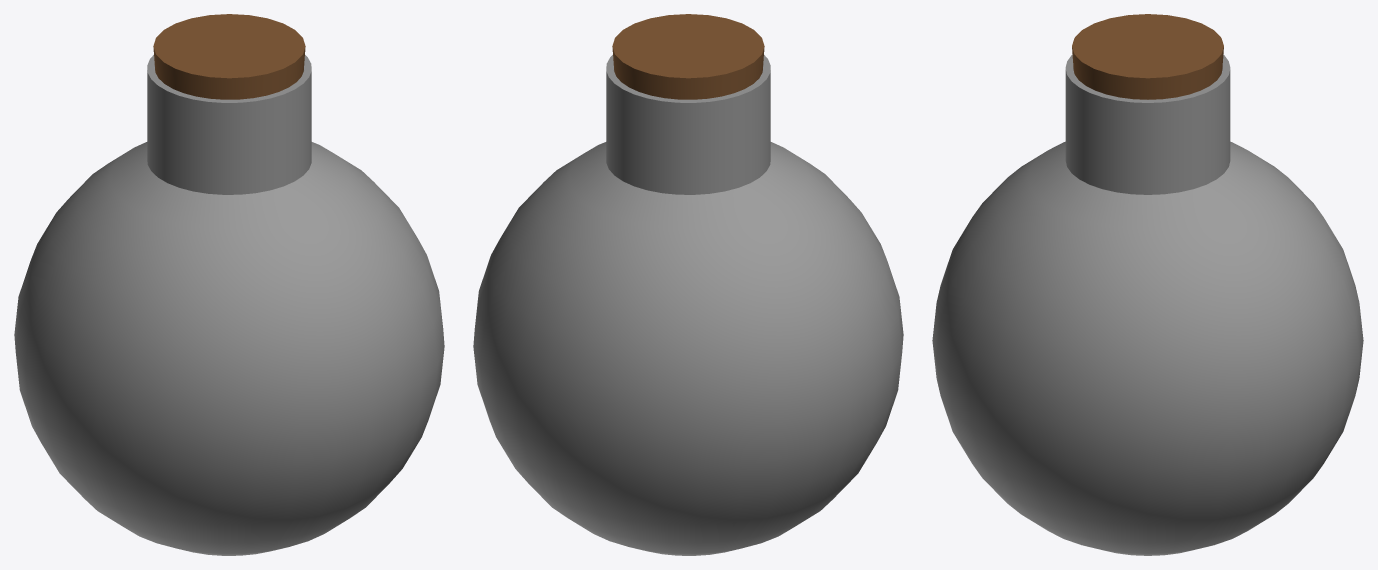
Rendered from Potion001.FBX.
3 views of the same model, side by side, from view 1: azimuth 30°, elevation 25°; view 2: azimuth 150°, elevation 25°; view 3: azimuth 270°, elevation 25° (orthographic).
Parts seen in each view (by area): view 1: Bottle, Cone001; view 2: Bottle, Cone001; view 3: Bottle, Cone001.
Boxes of the visible parts, box(x1,y1,x2,y2) form: Bottle: box(14, 55, 444, 555); Cone001: box(153, 14, 305, 99); Bottle: box(473, 55, 903, 555); Cone001: box(612, 14, 764, 99); Bottle: box(932, 54, 1363, 555); Cone001: box(1072, 14, 1223, 99).
Size of the model in its own units: 1.7 by 2.07 by 1.7.
